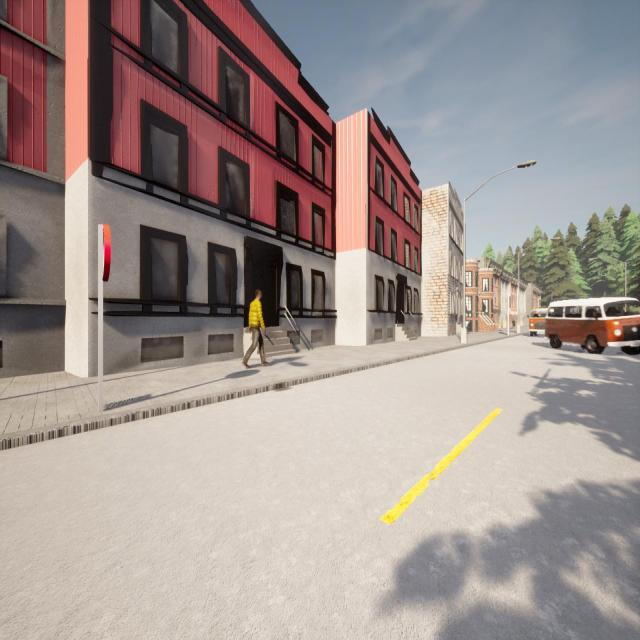Pedestrian: (242, 290, 269, 368), (499, 319, 504, 331), (512, 316, 516, 330)
Traffic_Signs: (98, 223, 112, 285)
Vehicle: (544, 297, 640, 354), (528, 308, 547, 337)
traffic_light: (507, 296, 511, 308)
